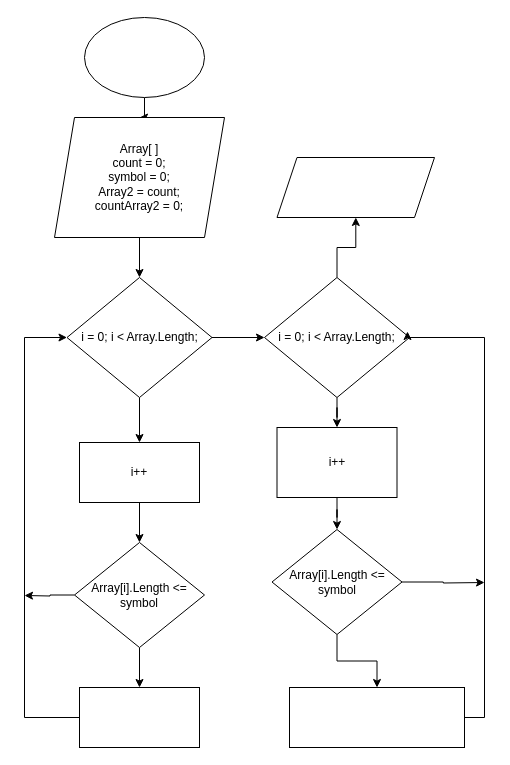
Image size: 510x765. Some labels were removed from this diagram. The box of each missing label's shape, as (x1, y1, x2, y2) in pixels:
Array2[countArray2]=Array[i] countArray2++: (288, 686, 464, 748)
count++: (78, 686, 200, 748)
Вывод: count, Array2: (276, 156, 434, 218)
начало: (84, 16, 204, 98)
